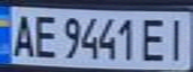1: (115, 15, 139, 62)
4: (78, 13, 100, 60), (97, 15, 118, 61)
9: (57, 12, 81, 60)
A: (6, 11, 39, 58)
E: (139, 15, 172, 63), (30, 11, 60, 60)
I: (163, 15, 193, 63)
